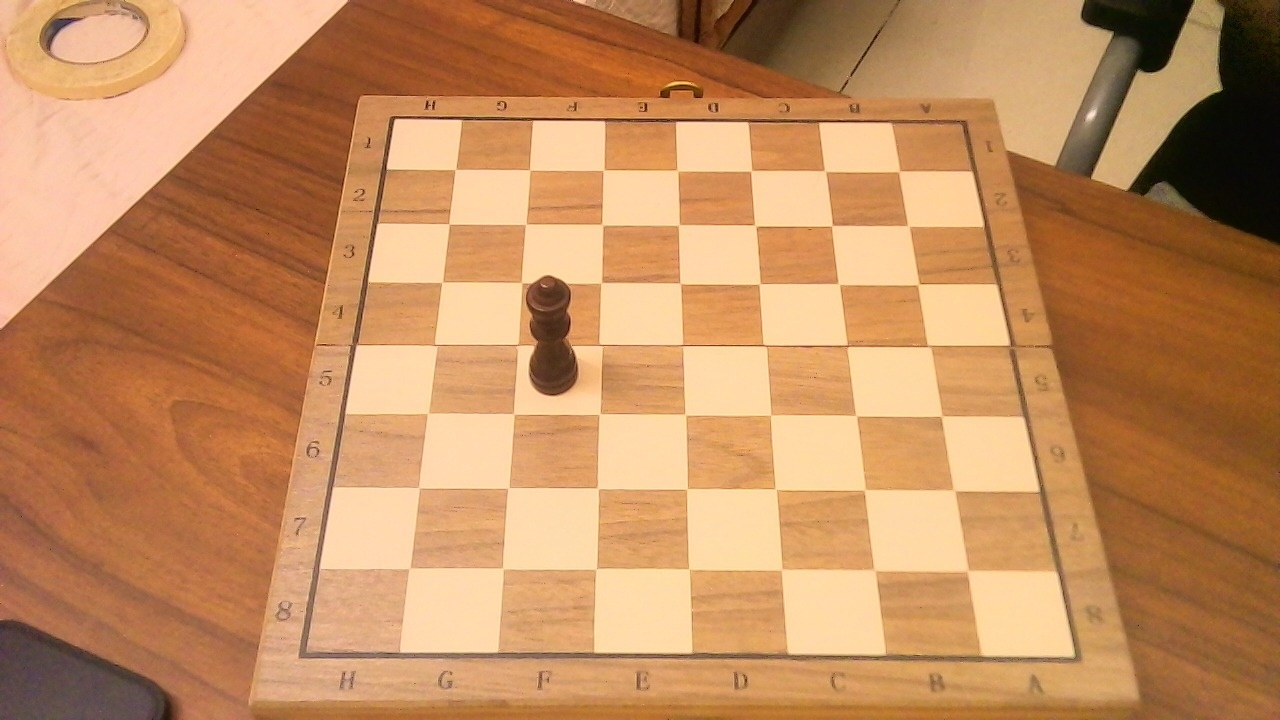q: (520, 262, 593, 400)
